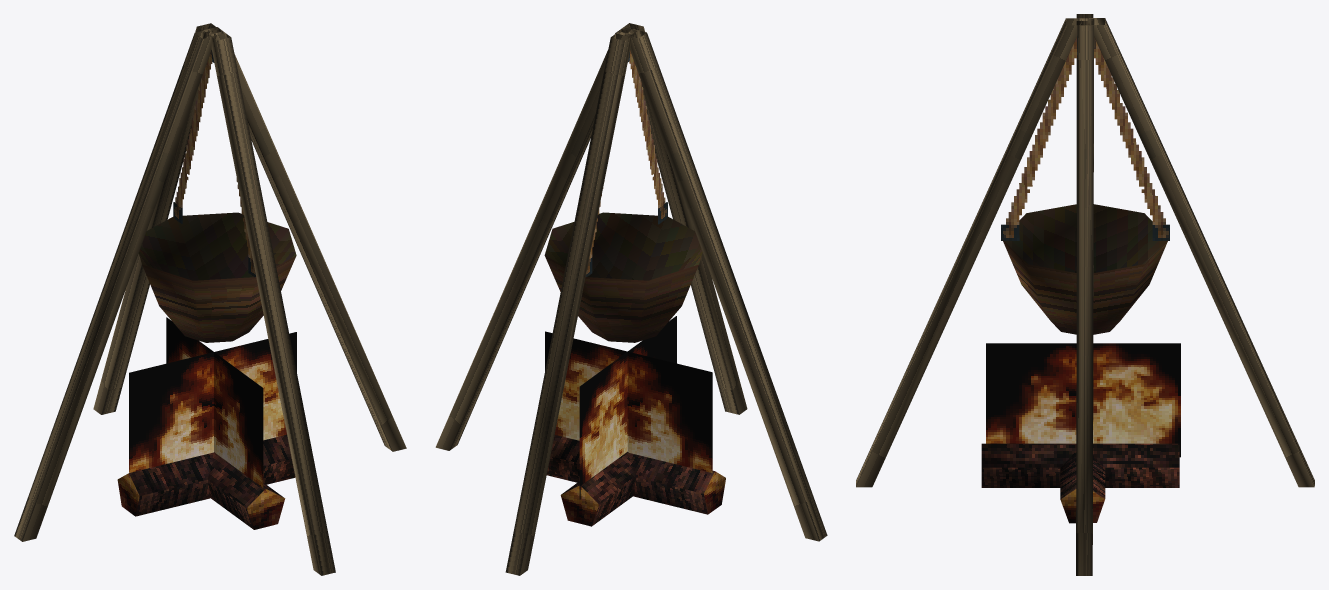
Rendered from CAZFIRE_ACTORDEF.fbx.
The picture shows the model from 3 angles, left to right: view 1: azimuth 30°, elevation 25°; view 2: azimuth 150°, elevation 25°; view 3: azimuth 270°, elevation 25°; orthographic projection.
Visible parts, largest first — view 1: U3DMesh; view 2: U3DMesh; view 3: U3DMesh.
Boxes of the visible parts, left/top/right/bottom form: U3DMesh: left=14, top=23, right=406, bottom=575; U3DMesh: left=435, top=23, right=827, bottom=575; U3DMesh: left=856, top=14, right=1314, bottom=575.
Bounding box in the file's own units: 7.38 × 8.42 × 7.58.
